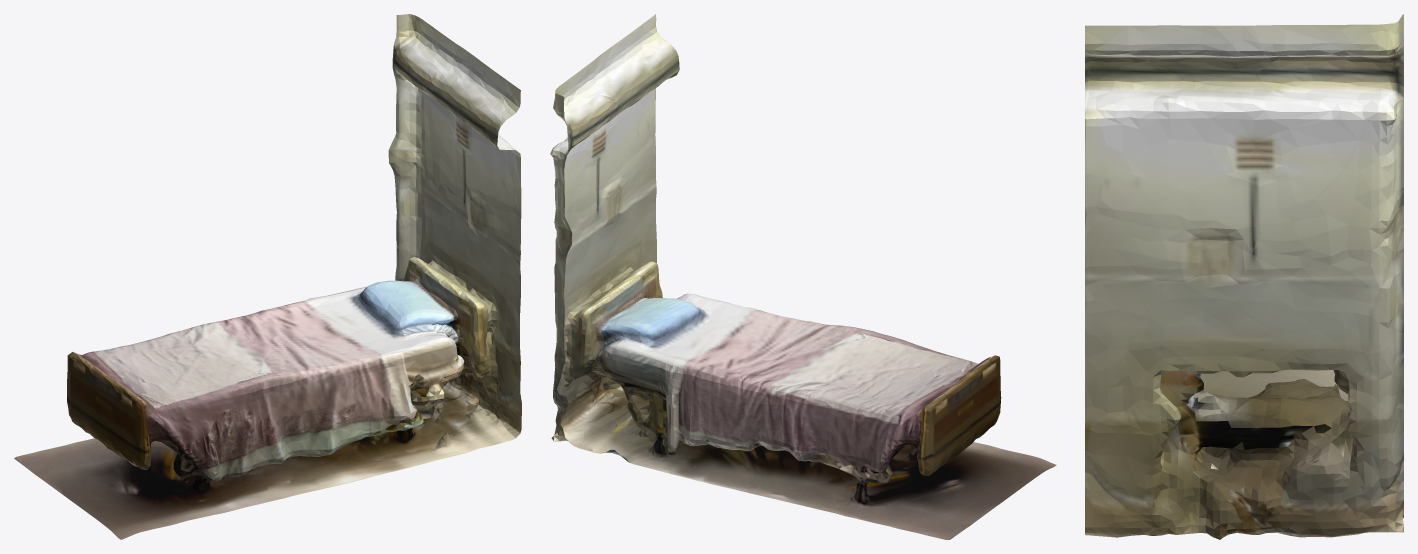
File: pat.fbx
The picture shows the model from 3 angles, left to right: view 1: azimuth 30°, elevation 25°; view 2: azimuth 150°, elevation 25°; view 3: azimuth 270°, elevation 25°; orthographic projection. The views are drawn at different scales.
Bounding box in the file's own units: 2.69 × 2.24 × 1.24.
Materials: 1 (1 with a texture image).
